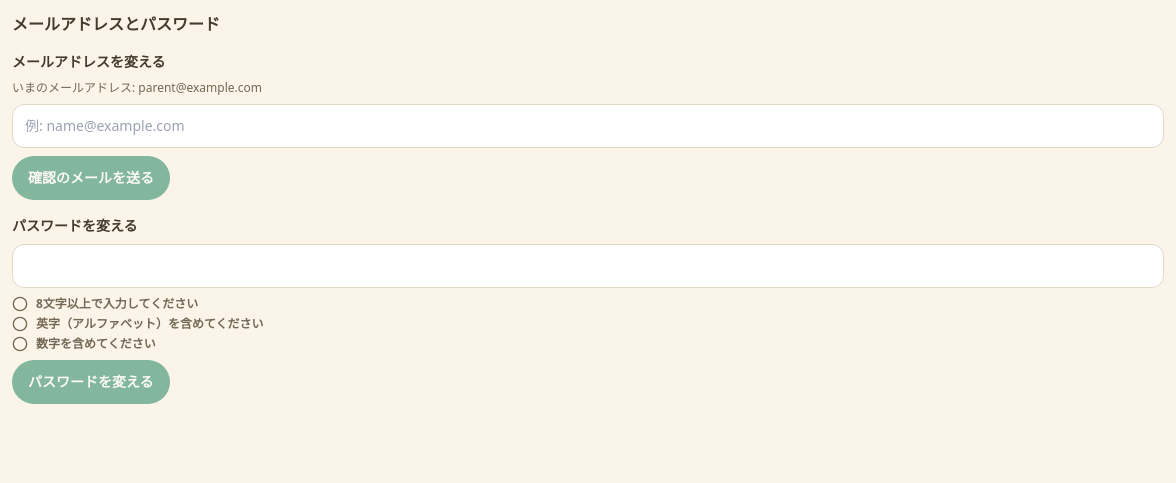
Test: AccountCredentialsSettings(メール・パスワード。UIUX改装 項目46) › メールは確認のメールを送り、パスワードは条件を満たしたら変える
Step 1. Type "new@example.com" into the field labelled "メールアドレスを変える" → (588, 126), box [12,104,1164,148]
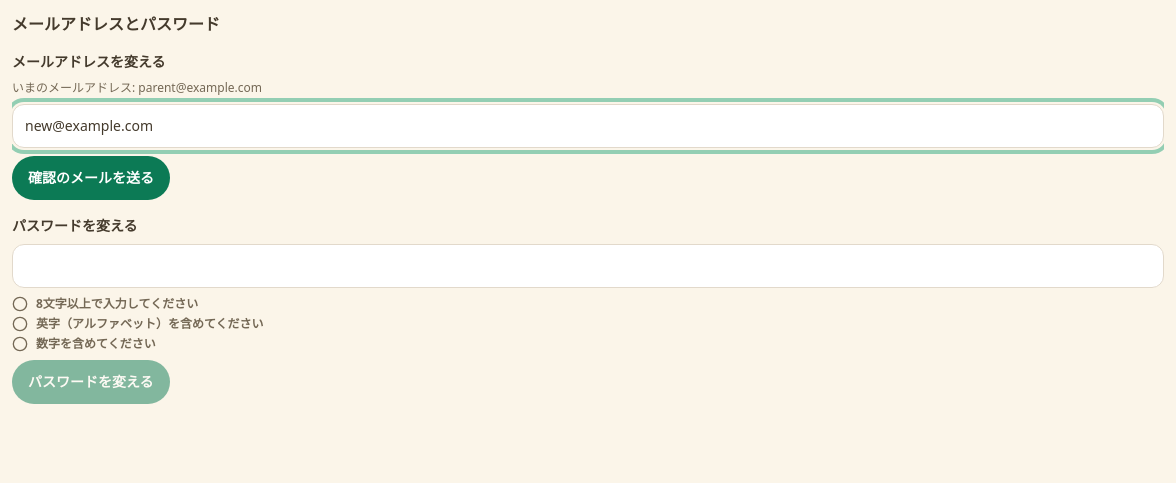
Step 2. Click the button "確認のメールを送る" → (91, 178), box [12,156,170,200]
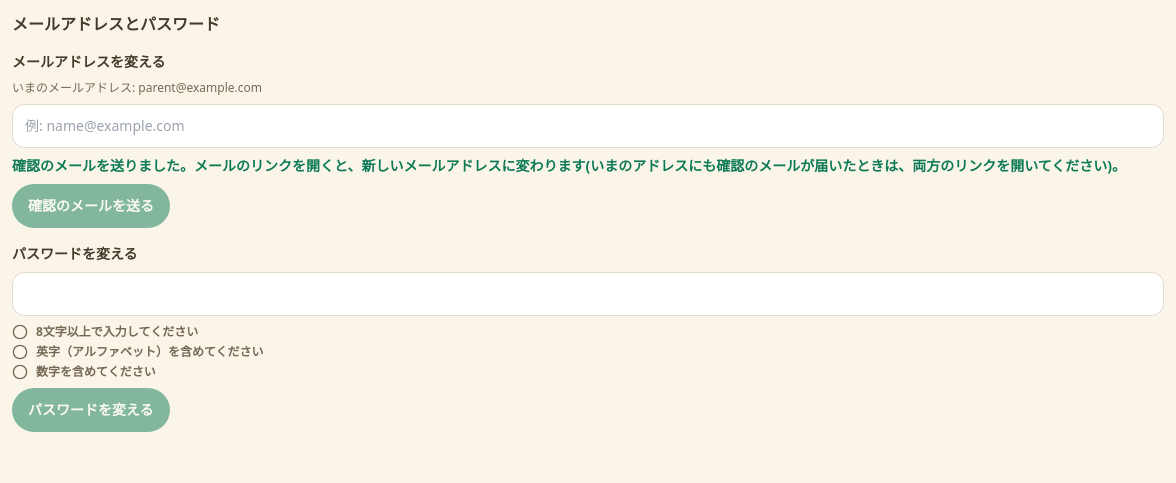
Expected: the text "確認のメールを送りました" is shown, [12,156,1126,175]
Step 3. Type "short" into the password field labelled "パスワードを変える" → (588, 294), box [12,272,1164,316]
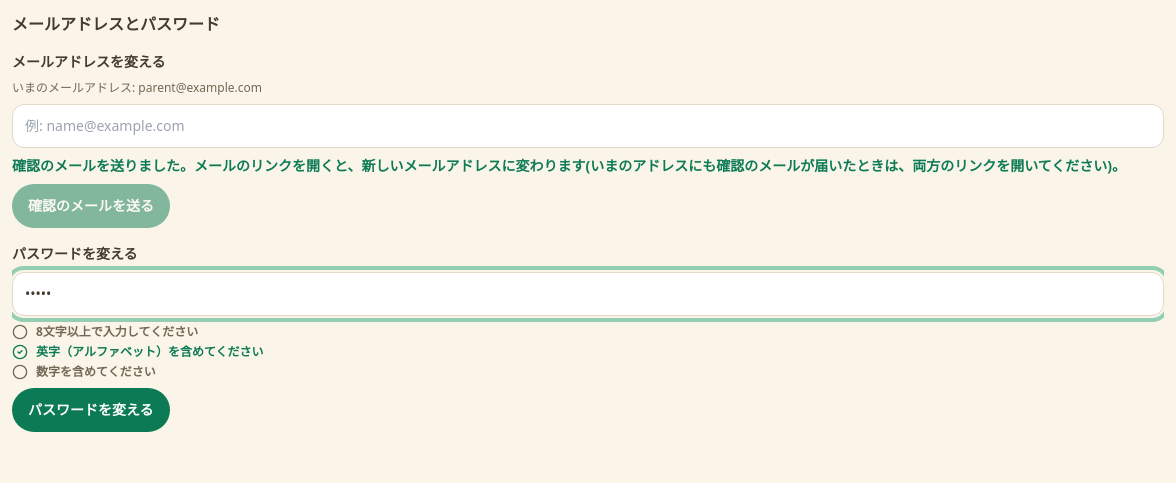
Step 4. Click the button "パスワードを変える" → (91, 410), box [12,388,170,432]
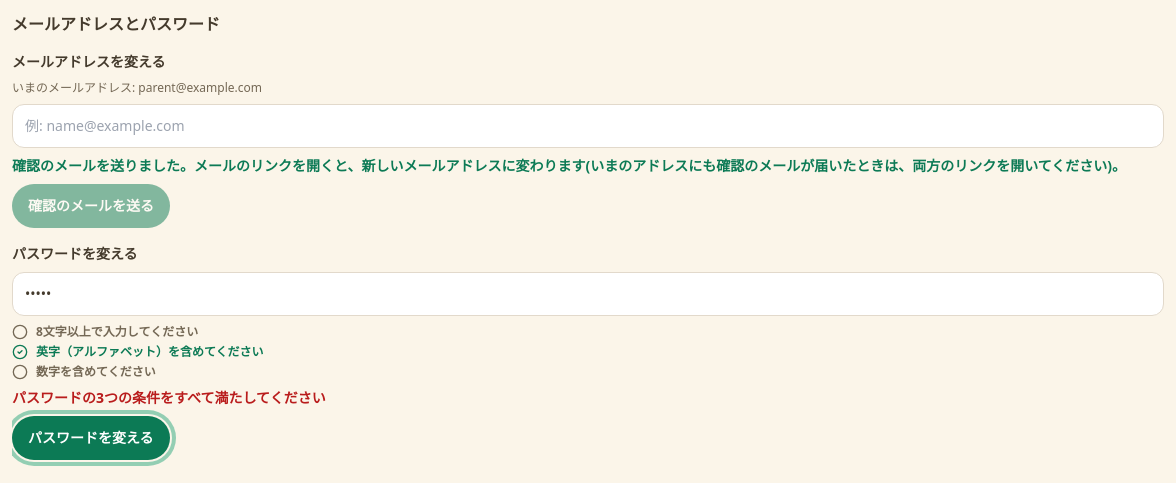
Expected: the message "パスワードの3つの条件をすべて満たしてください" is shown, [12,388,326,407]
Step 5. Type "password123" into the password field labelled "パスワードを変える" → (588, 294), box [12,272,1164,316]
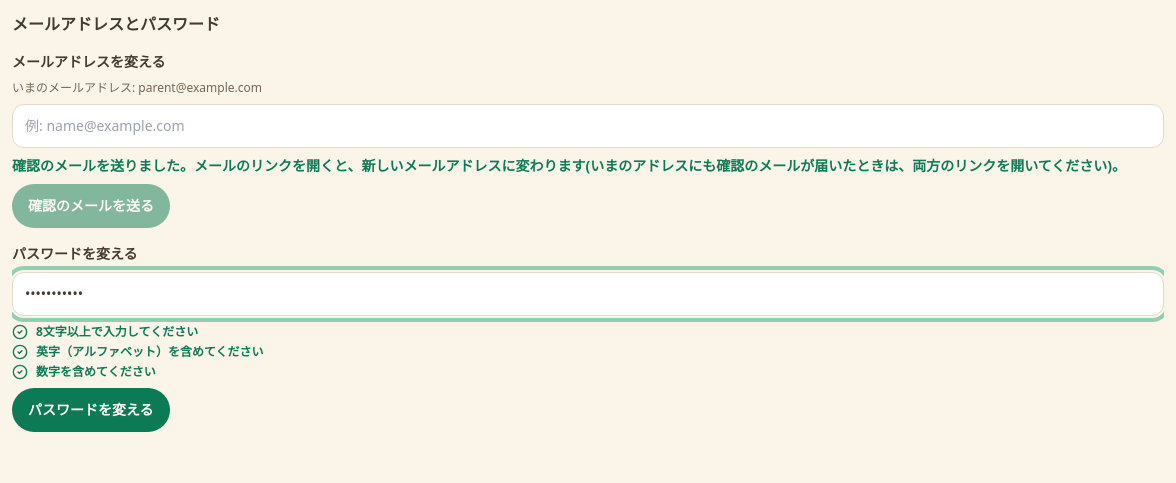
Step 6. Click the button "パスワードを変える" → (91, 410), box [12,388,170,432]
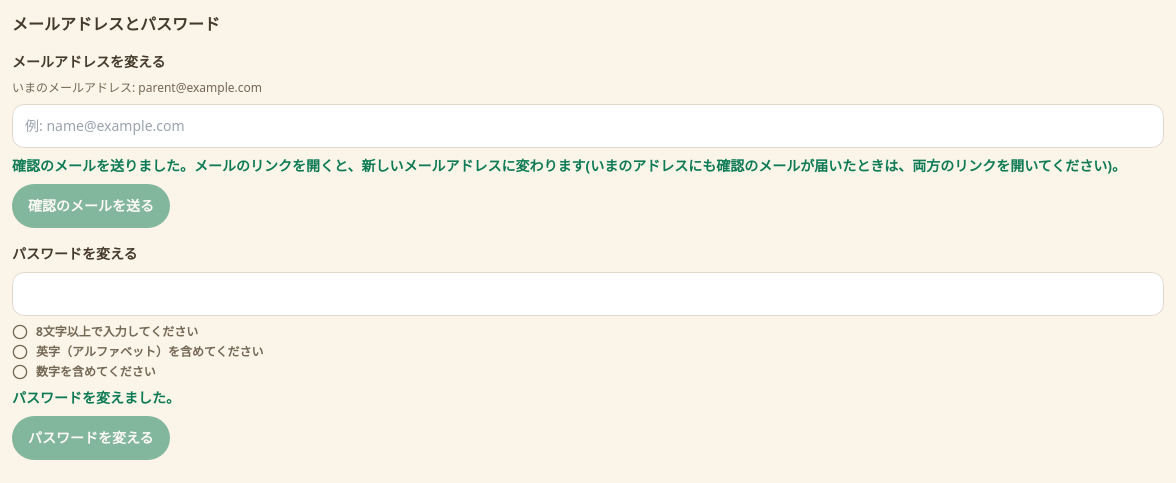
Expected: the text "パスワードを変えました。" is shown, [12,388,180,407]
